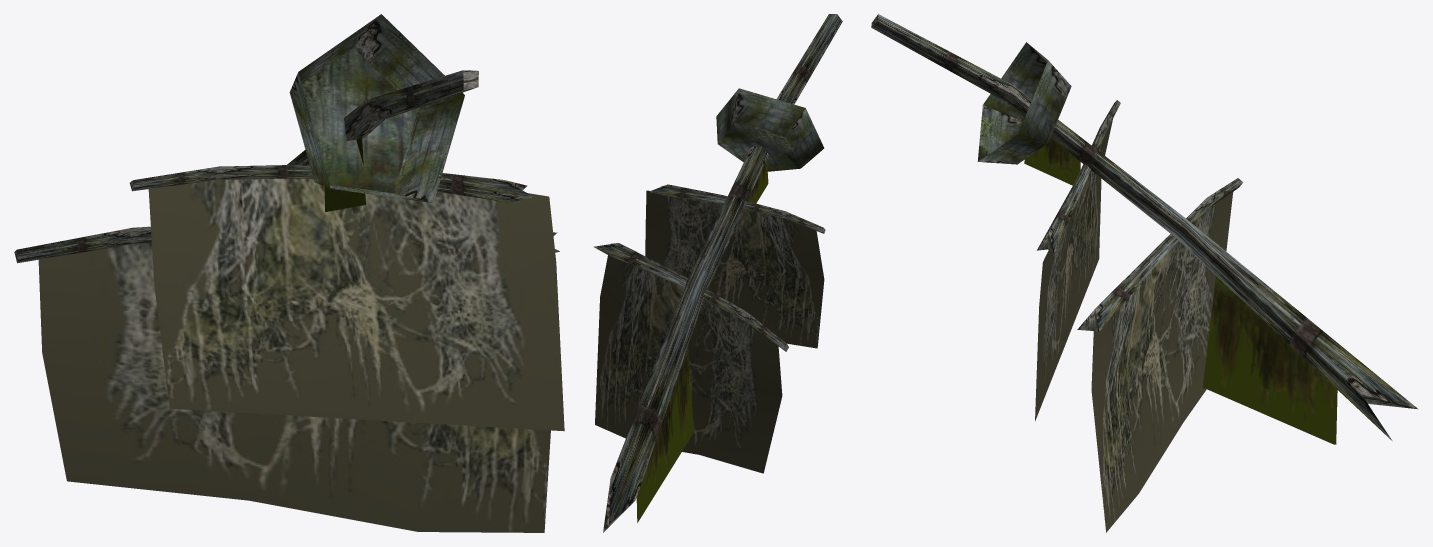
File: pir_m_prp_dvj_mast.fbx
3 views of the same model, side by side, from view 1: azimuth 30°, elevation 25°; view 2: azimuth 150°, elevation 25°; view 3: azimuth 270°, elevation 25° (orthographic). The views are drawn at different scales.
Parts seen in each view (by area): view 1: sail4, sail5, sail1, crowsnest, sail3, masts1, masts, masts2, pPlane4; view 2: sail5, sail4, masts, crowsnest, sail3, pPlane2, sail1, masts2, masts1, pPlane4; view 3: sail5, masts, sail4, pPlane1, crowsnest, pPlane2, sail3, masts2, masts1, sail1, pPlane3.
Boxes of the visible parts, x1,y1,x2,y2 form: sail4: [148, 178, 564, 431]; sail5: [38, 243, 550, 532]; sail1: [149, 178, 562, 427]; crowsnest: [289, 14, 464, 203]; sail3: [39, 243, 550, 532]; masts1: [129, 164, 533, 202]; masts: [287, 70, 478, 164]; masts2: [14, 226, 559, 263]; pPlane4: [324, 135, 365, 212]; sail5: [595, 255, 782, 473]; sail4: [645, 190, 824, 348]; masts: [603, 14, 842, 532]; crowsnest: [716, 88, 824, 171]; sail3: [596, 256, 781, 471]; pPlane2: [636, 346, 693, 522]; sail1: [645, 191, 822, 347]; masts2: [593, 243, 788, 351]; masts1: [649, 184, 825, 233]; pPlane4: [748, 161, 768, 203]; sail5: [1091, 192, 1232, 532]; masts: [871, 14, 1418, 441]; sail4: [1035, 119, 1112, 421]; pPlane1: [1203, 311, 1337, 444]; crowsnest: [977, 42, 1071, 164]; pPlane2: [1202, 276, 1334, 444]; sail3: [1092, 194, 1231, 524]; masts2: [1077, 178, 1243, 331]; masts1: [1037, 100, 1120, 252]; sail1: [1035, 119, 1112, 411]; pPlane3: [1024, 153, 1080, 185].
Bounding box in the file's own units: 2933 × 4131 × 4693.
Materials: 2 (2 with a texture image).
